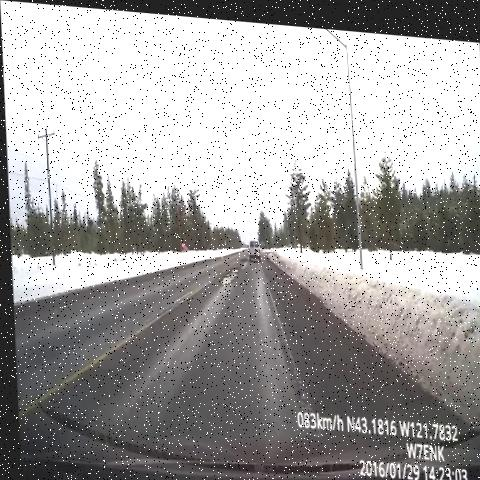pothole: (211, 258, 244, 295), (231, 246, 246, 266)
